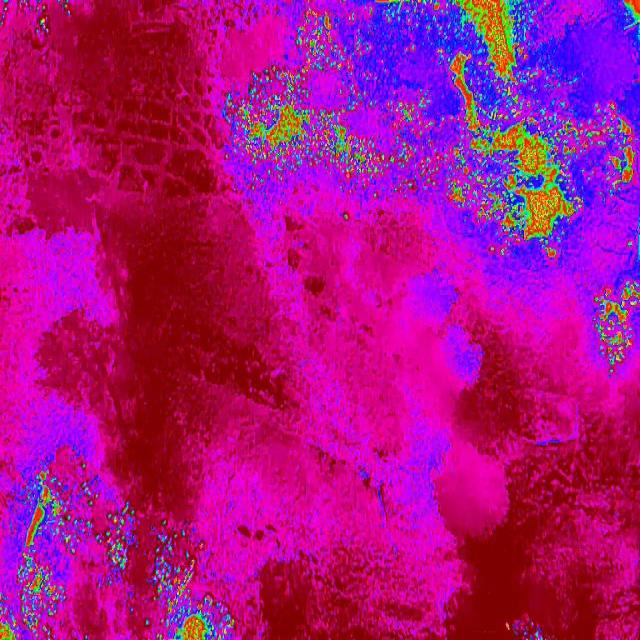fire: (222, 65, 640, 204), (289, 0, 640, 64), (0, 462, 103, 640), (147, 521, 239, 640), (456, 205, 586, 257), (592, 282, 640, 372), (103, 494, 135, 586), (506, 619, 545, 640)
